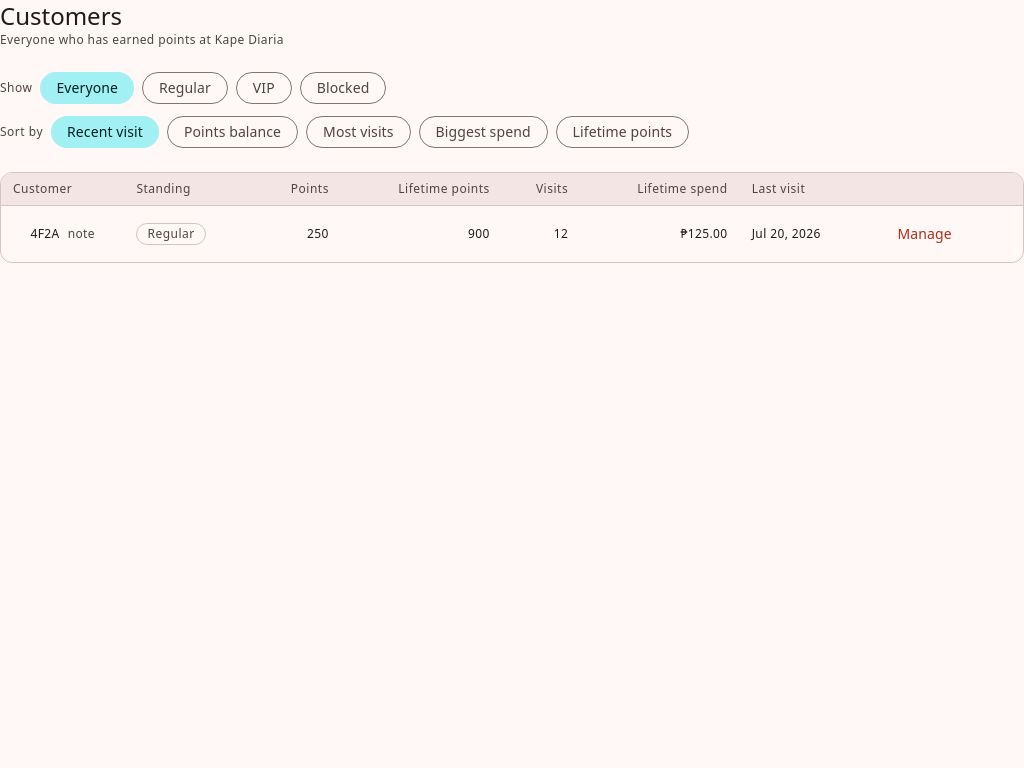
Scenario: CustomersManager: notes › opens the note field prefilled with what is already stored
This screenshot has width=1024, height=768.
Click the button "Manage" at (925, 234), box top-left (882, 218), bottom-right (968, 250)
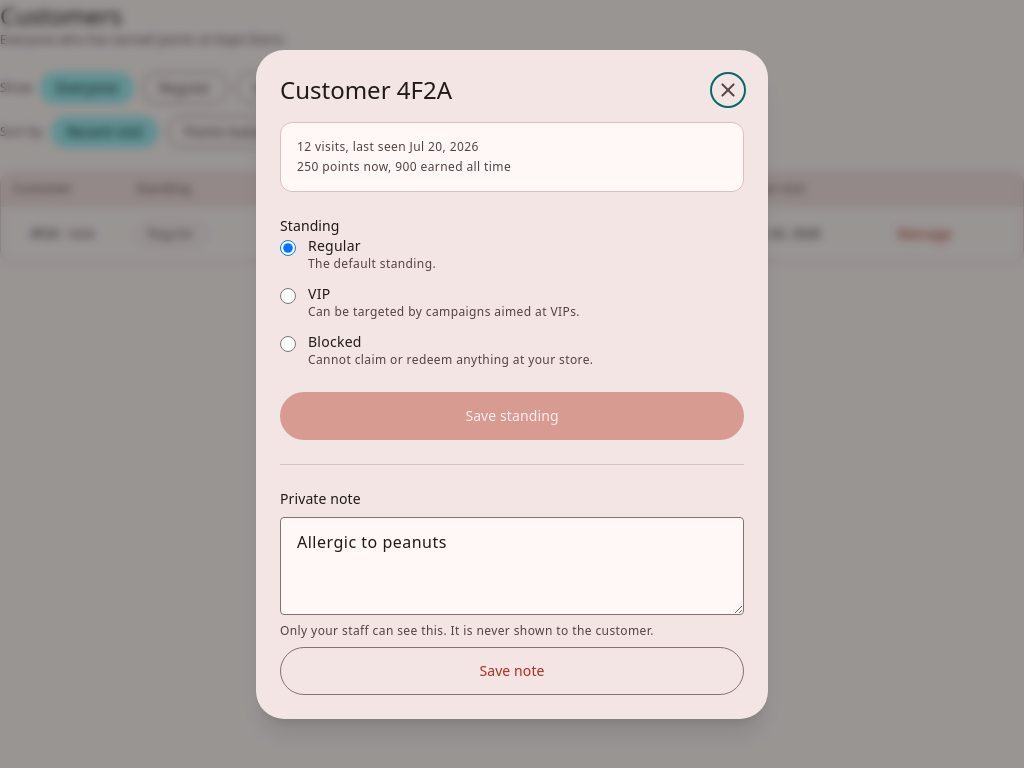
Expected: the text box labelled "Private note" holds "Allergic to peanuts", top-left (280, 516), bottom-right (744, 614)
